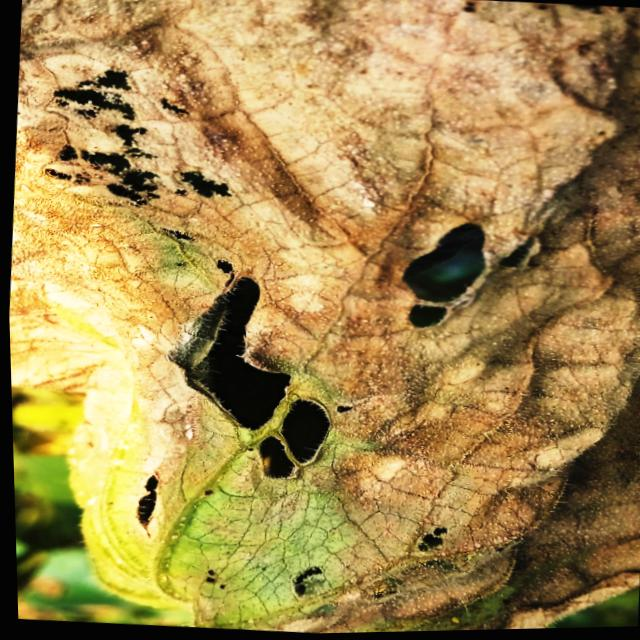Anthracnose: (152, 248, 370, 497), (28, 58, 246, 253), (395, 210, 546, 346), (407, 516, 455, 566), (131, 474, 166, 536), (286, 556, 328, 605)
